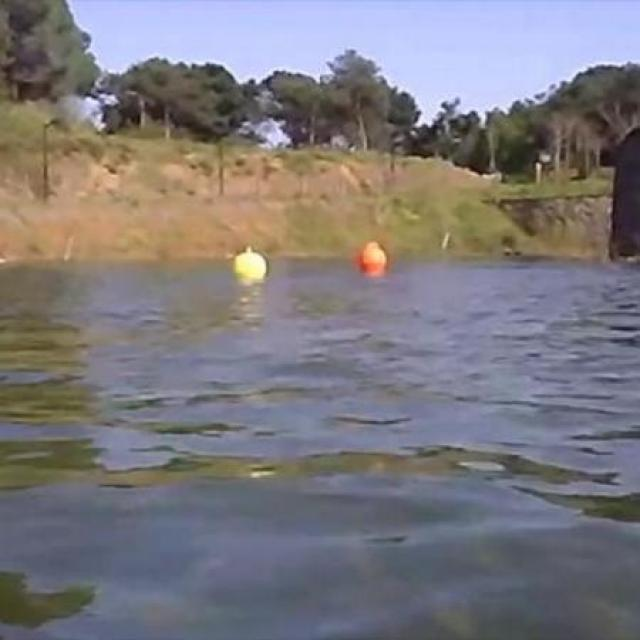buoy: (229, 248, 267, 280), (358, 244, 392, 274)
